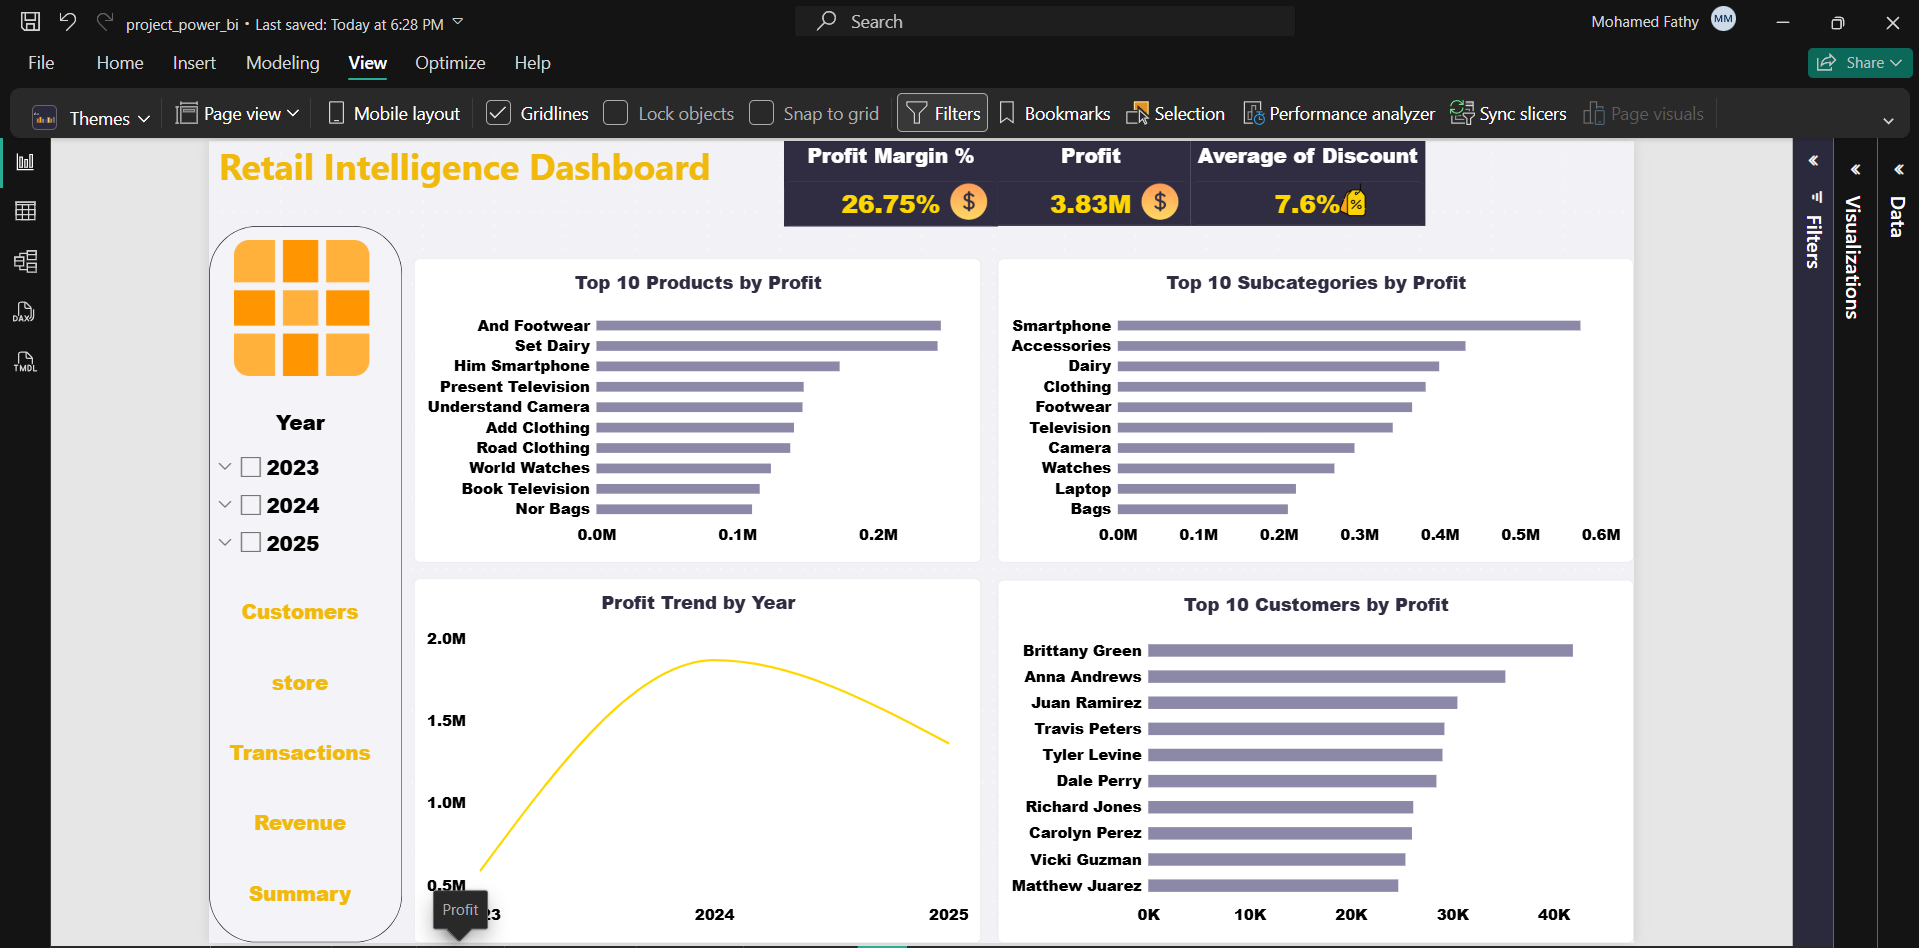

What the dashboard file says about the page in this screenshot:
{"tool":"powerbi","page":{"name":"Profit","canvas":[1920,1080],"ordinal":2},"visuals":[{"type":"clusteredBarChart","title":"Top 10 Products by Profit","fields":{"Category":["Products.ProductName"],"Y":["Transactions.Total Profit"]},"box":[276.9,158.8,764.3,409.8],"z":0},{"type":"textbox","box":[0,0,686.5,77.3],"z":1000},{"type":"clusteredBarChart","title":"Top 10 Subcategories by Profit","fields":{"Category":["Products.SubCategory"],"Y":["Transactions.Total Profit"]},"box":[1063.4,158.8,856.6,409.8],"z":2000},{"type":"clusteredBarChart","title":"Top 10 Customers by Profit","fields":{"Category":["Customers.Customer name"],"Y":["Transactions.Total Profit"]},"box":[1063.4,590.8,856.6,489.2],"z":3000},{"type":"lineChart","title":"Profit Trend by Year","fields":{"Category":["Transactions.Date.Variation.Date Hierarchy.Year","Transactions.Date.Variation.Date Hierarchy.Month"],"Y":["Transactions.Total Profit"]},"box":[276.9,588.9,764.3,491.1],"z":4000},{"type":"cardVisual","title":"Profit","fields":{"Data":["Transactions.Total Profit"]},"box":[1054.2,0,267.7,114.5],"z":5000},{"type":"cardVisual","title":"Average of Discount","fields":{"Data":["Transactions.Average Discount"]},"box":[1322.1,0,316.6,114.5],"z":6000},{"type":"shape","box":[0,114.5,260.3,965.5],"z":7000},{"type":"pageNavigator","box":[0,588.9,245.5,470.8],"z":8000},{"type":"image","box":[974.9,61.9,79.4,40.6],"z":9000},{"type":"image","box":[1506.5,57.2,70.2,44.3],"z":10000},{"type":"slicer","title":"Year","fields":{"Values":["Transactions.Date.Variation.Date Hierarchy.Year","Transactions.Date.Variation.Date Hierarchy.Month"]},"box":[0,360,245.5,208.6],"z":11000},{"type":"image","box":[33.2,107.1,182.8,234.5],"z":12000},{"type":"cardVisual","title":"Profit Margin %","fields":{"Data":["Measure.Profit Margin %"]},"box":[774.4,0,288,115.2],"z":13000},{"type":"image","box":[1243.7,57.6,76.8,49.1],"z":14000},{"type":"image","box":[985.6,57.6,76.8,49.1],"z":15000}]}

Visuals, with their boxes on the page's 1920x1080 design canvas (x1, y1, x2, y2). These are canvas units, not pixel positions in the 1919x948 screenshot, which may show the page scaled, cropped or inside an application window:
"Top 10 Products by Profit" clusteredBarChart: [x1=277, y1=159, x2=1041, y2=569]
textbox: [x1=0, y1=0, x2=686, y2=77]
"Top 10 Subcategories by Profit" clusteredBarChart: [x1=1063, y1=159, x2=1920, y2=569]
"Top 10 Customers by Profit" clusteredBarChart: [x1=1063, y1=591, x2=1920, y2=1080]
"Profit Trend by Year" lineChart: [x1=277, y1=589, x2=1041, y2=1080]
"Profit" cardVisual: [x1=1054, y1=0, x2=1322, y2=114]
"Average of Discount" cardVisual: [x1=1322, y1=0, x2=1639, y2=114]
shape: [x1=0, y1=114, x2=260, y2=1080]
pageNavigator: [x1=0, y1=589, x2=246, y2=1060]
image: [x1=975, y1=62, x2=1054, y2=102]
image: [x1=1506, y1=57, x2=1577, y2=102]
"Year" slicer: [x1=0, y1=360, x2=246, y2=569]
image: [x1=33, y1=107, x2=216, y2=342]
"Profit Margin %" cardVisual: [x1=774, y1=0, x2=1062, y2=115]
image: [x1=1244, y1=58, x2=1320, y2=107]
image: [x1=986, y1=58, x2=1062, y2=107]
